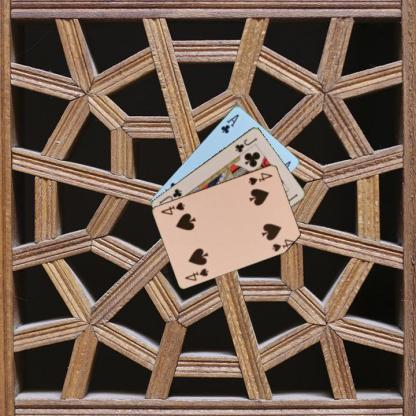4s: (182, 265, 210, 282), (246, 170, 274, 186)
Ac: (218, 111, 240, 135)
Jc: (232, 135, 258, 154)
